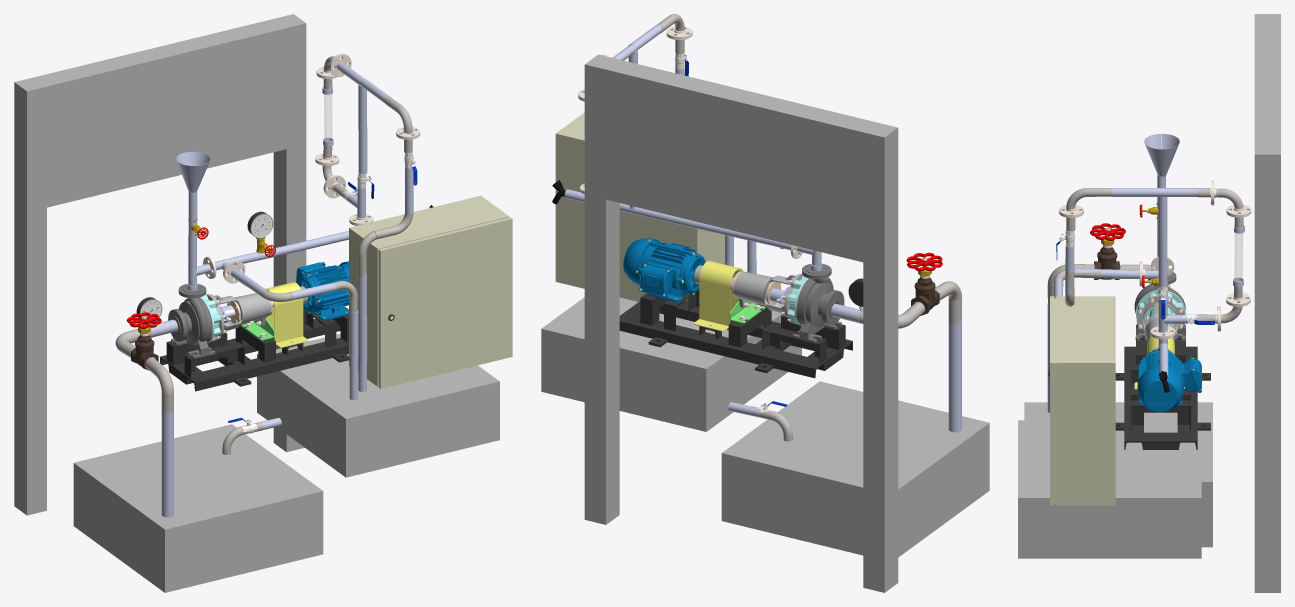
Rendered from bomba-quantizado.glb.
3 renders of one model, left to right at view 1: azimuth 30°, elevation 25°; view 2: azimuth 150°, elevation 25°; view 3: azimuth 270°, elevation 25°, orthographic. The views are drawn at different scales.
Visible parts, largest first — view 1: senai_placa.stp-1, reservatorio.stp-1, CEMAR-1, reservatorio_2.stp-1, Base-1, casing oficial-1, Motor teste-2, PUMP PROTECTION-1, PIPE MASTER 65-4, House Bearing-1, hopperfunnel 2-1, Curva 90° 2-1; view 2: senai_placa.stp-1, reservatorio.stp-1, reservatorio_2.stp-1, Base-1, CEMAR-1, Motor teste-2, casing oficial-1, PUMP PROTECTION-1, House Bearing-1, PIPE MASTER 65-4, Curva 90° 2-1, PIPE MASTER 65-1; view 3: reservatorio_2.stp-1, senai_placa.stp-1, CEMAR-1, Base-1, Motor teste-2, reservatorio.stp-1, hopperfunnel 2-1, House Bearing-1, casing oficial-1, Curva 90° 35-4, Curva 90° 35-7, coupling-1 (+8 smaller).
Part boxes in pixels (x1,y1,x2,y2): senai_placa.stp-1: (14,14,306,515); reservatorio.stp-1: (73,424,323,592); CEMAR-1: (349,195,512,388); reservatorio_2.stp-1: (257,333,499,477); Base-1: (160,307,349,391); casing oficial-1: (168,284,215,358); Motor teste-2: (296,261,348,320); PUMP PROTECTION-1: (266,282,308,347); PIPE MASTER 65-4: (161,412,173,517); House Bearing-1: (205,293,270,340); hopperfunnel 2-1: (176,151,210,192); Curva 90° 2-1: (145,357,173,415); senai_placa.stp-1: (584,54,898,592); reservatorio.stp-1: (721,381,989,557); reservatorio_2.stp-1: (541,297,801,431); Base-1: (619,290,852,378); CEMAR-1: (555,112,724,301); Motor teste-2: (623,238,705,302); casing oficial-1: (793,264,844,343); PUMP PROTECTION-1: (693,260,743,331); House Bearing-1: (734,271,802,323); PIPE MASTER 65-4: (948,319,961,432); Curva 90° 2-1: (934,281,962,324); PIPE MASTER 65-1: (730,277,860,323); reservatorio_2.stp-1: (1018,420,1201,558); senai_placa.stp-1: (1254,14,1280,592); CEMAR-1: (1048,296,1115,505); Base-1: (1115,336,1210,449); Motor teste-2: (1136,347,1202,412); reservatorio.stp-1: (1024,402,1212,547); hopperfunnel 2-1: (1144,133,1179,176); House Bearing-1: (1136,295,1184,341); casing oficial-1: (1134,272,1185,341); Curva 90° 35-4: (1066,188,1111,231); Curva 90° 35-7: (1197,188,1243,228); coupling-1: (1136,290,1185,329).
Size of the model in its own units: 1.76 by 1.85 by 1.
